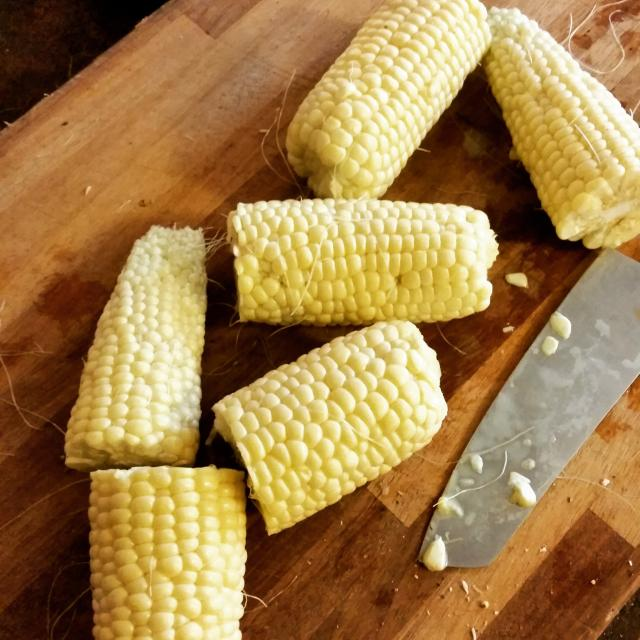corn: (219, 313, 450, 561), (273, 0, 503, 211), (474, 1, 640, 255), (60, 224, 224, 481), (222, 195, 510, 329), (86, 458, 267, 640)
